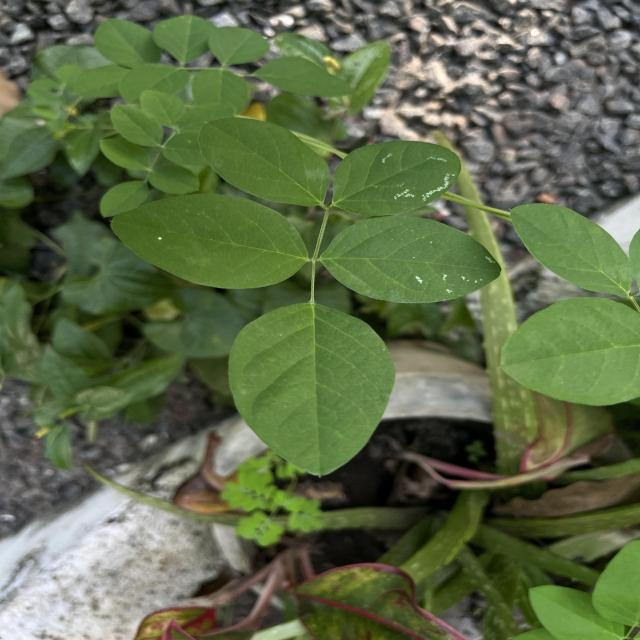Clitoria ternatea: (226, 300, 398, 478), (109, 192, 309, 291), (318, 214, 502, 304), (197, 116, 332, 208), (332, 140, 462, 217)
